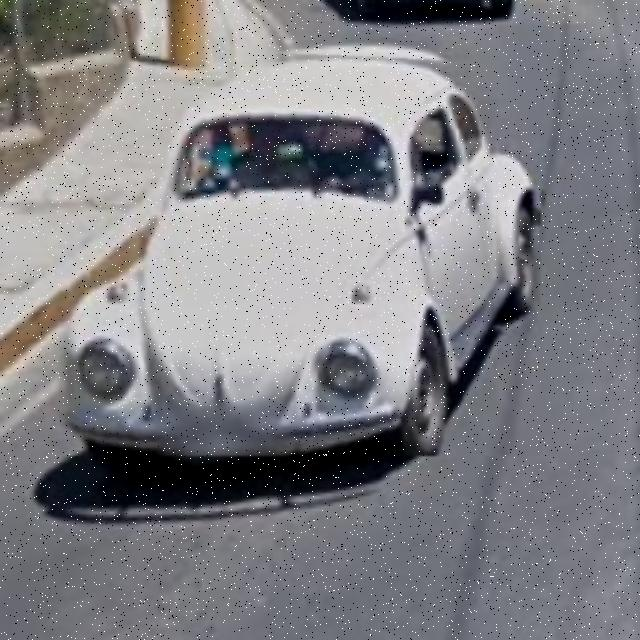car: (60, 44, 542, 457)
